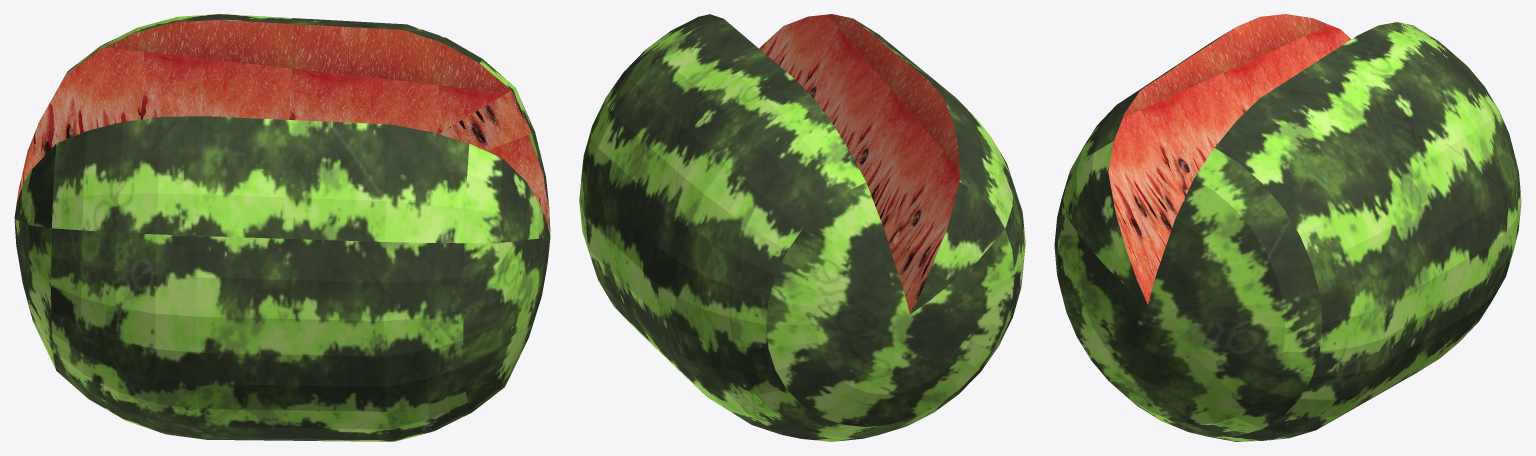
File: SandiaAbierta.fbx
3 renders of one model, left to right at view 1: azimuth 30°, elevation 25°; view 2: azimuth 150°, elevation 25°; view 3: azimuth 270°, elevation 25°, orthographic. The views are drawn at different scales.
Parts seen in each view (by area): view 1: sandiaabierta; view 2: sandiaabierta; view 3: sandiaabierta.
Boxes of the visible parts, <box> form: sandiaabierta: <box>14,14,550,441</box>; sandiaabierta: <box>579,14,1025,441</box>; sandiaabierta: <box>1054,14,1521,441</box>.
Bounding box in the file's own units: 470 × 368 × 444.
2 materials, 2 textured.
